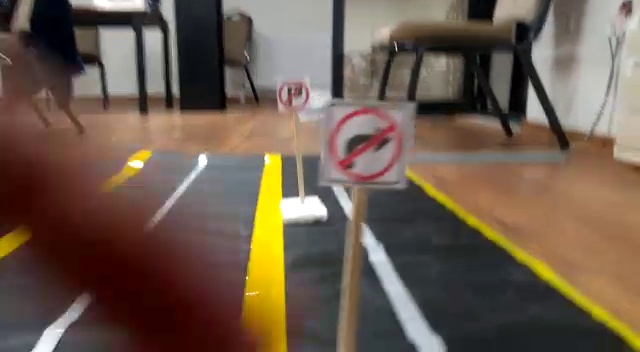park_yapilmaz: (278, 77, 309, 108)
saga_donulmez: (326, 103, 408, 185)
